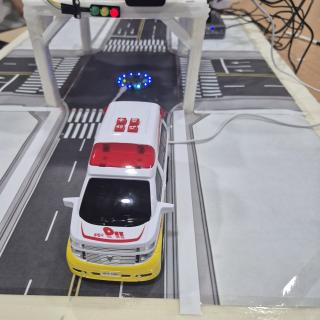Ambulance: (63, 101, 174, 282)
